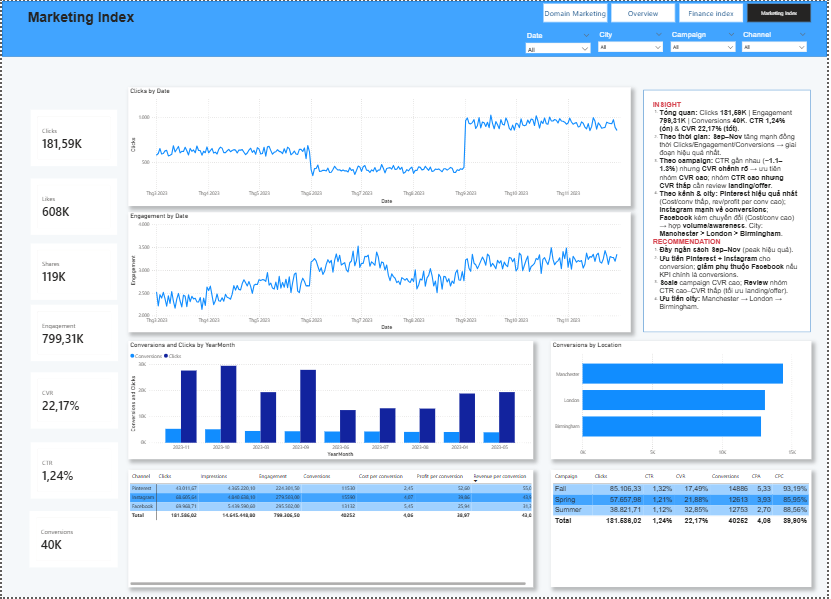

The dashboard page shown, as its layout file describes it:
{"tool":"powerbi","page":{"name":"Marketing Index","canvas":[2200,1590],"ordinal":3},"visuals":[{"type":"shape","box":[0,0,2200,148],"z":0},{"type":"pageNavigator","box":[1442,6,714,50],"z":1000},{"type":"textbox","box":[64.3,17.1,488.6,78.6],"z":2000},{"type":"cardVisual","fields":{"Data":["Sum(data.Clicks)"]},"box":[75,290,230,150],"z":3000},{"type":"cardVisual","fields":{"Data":["Sum(data.Likes (Reactions))"]},"box":[75,472.5,230,150],"z":4000},{"type":"cardVisual","fields":{"Data":["Sum(data.Shares)"]},"box":[77.5,645,230,150],"z":5000},{"type":"cardVisual","fields":{"Data":["#Measure.Engagement"]},"box":[75,810,232.5,150],"z":6000},{"type":"lineChart","fields":{"Y":["Sum(data.Clicks)"],"Category":["Date.Date"]},"box":[336.7,230,1340,316.7],"z":7000},{"type":"clusteredBarChart","fields":{"Category":["data.City/Location"],"Y":["Sum(data.Conversions)"]},"box":[1462.5,907.5,695,315],"z":8000},{"type":"lineChart","fields":{"Y":["#Measure.Engagement"],"Category":["Date.Date"]},"box":[336.7,563.3,1340,320],"z":9000},{"type":"clusteredColumnChart","fields":{"Y":["Sum(data.Conversions)","Sum(data.Clicks)"],"Category":["Date.YearMonth"]},"box":[337.5,907.5,1080,315],"z":10000},{"type":"pivotTable","fields":{"Values":["Sum(data.Clicks)","Sum(data.Impressions)","#Measure.Engagement","Sum(data.Conversions)","#Measure.Cost per conversion","#Measure.Profit per conversion","#Measure.Revenue per conversion"],"Rows":["data.Channel"]},"box":[336.7,1250,1080,313.3],"z":11000},{"type":"cardVisual","fields":{"Data":["#Measure.CVR"]},"box":[75,990,232.5,150],"z":12000},{"type":"cardVisual","fields":{"Data":["Sum(data.Conversions)"]},"box":[72.5,1360,235,150],"z":13000},{"type":"cardVisual","fields":{"Data":["#Measure.CTR"]},"box":[75,1175,232.5,150],"z":14000},{"type":"slicer","fields":{"Values":["data.Date"]},"box":[1388,76,192,62],"z":15000},{"type":"slicer","fields":{"Values":["data.City/Location"]},"box":[1580,74,192,62],"z":16000},{"type":"slicer","fields":{"Values":["data.Campaign"]},"box":[1772,74,192,64],"z":17000},{"type":"slicer","fields":{"Values":["data.Channel"]},"box":[1964,74,192,64],"z":18000},{"type":"shape","box":[1710,236.7,446.7,646.7],"z":19000},{"type":"textbox","box":[1730,260,403.3,600],"z":20000},{"type":"tableEx","fields":{"Values":["data.Campaign","#Measure.Clicks","#Measure.CTR","#Measure.CVR","#Measure.Conversions","#Measure.CPA","#Measure.CPC"]},"box":[1463,1250,695,313],"z":21000}]}

Visuals, with their boxes in screenshot pixels (x1, y1, x2, y2), scaled from the page's 2200x1590 canvas onto the 831x599 screenshot:
shape: box=[0, 0, 830, 56]
pageNavigator: box=[545, 2, 814, 21]
textbox: box=[24, 6, 209, 36]
cardVisual - Sum(data.Clicks): box=[28, 109, 115, 166]
cardVisual - Sum(data.Likes (Reactions)): box=[28, 178, 115, 235]
cardVisual - Sum(data.Shares): box=[29, 243, 116, 300]
cardVisual - #Measure.Engagement: box=[28, 305, 116, 362]
lineChart - Sum(data.Clicks) x Date.Date: box=[127, 87, 633, 206]
clusteredBarChart - data.City/Location x Sum(data.Conversions): box=[552, 342, 815, 461]
lineChart - #Measure.Engagement x Date.Date: box=[127, 212, 633, 333]
clusteredColumnChart - Sum(data.Conversions) x Sum(data.Clicks): box=[127, 342, 535, 461]
pivotTable - Sum(data.Clicks) x Sum(data.Impressions): box=[127, 471, 535, 589]
cardVisual - #Measure.CVR: box=[28, 373, 116, 429]
cardVisual - Sum(data.Conversions): box=[27, 512, 116, 569]
cardVisual - #Measure.CTR: box=[28, 443, 116, 499]
slicer - data.Date: box=[524, 29, 597, 52]
slicer - data.City/Location: box=[597, 28, 669, 51]
slicer - data.Campaign: box=[669, 28, 742, 52]
slicer - data.Channel: box=[742, 28, 814, 52]
shape: box=[646, 89, 815, 333]
textbox: box=[653, 98, 806, 324]
tableEx - data.Campaign x #Measure.Clicks: box=[553, 471, 815, 589]
